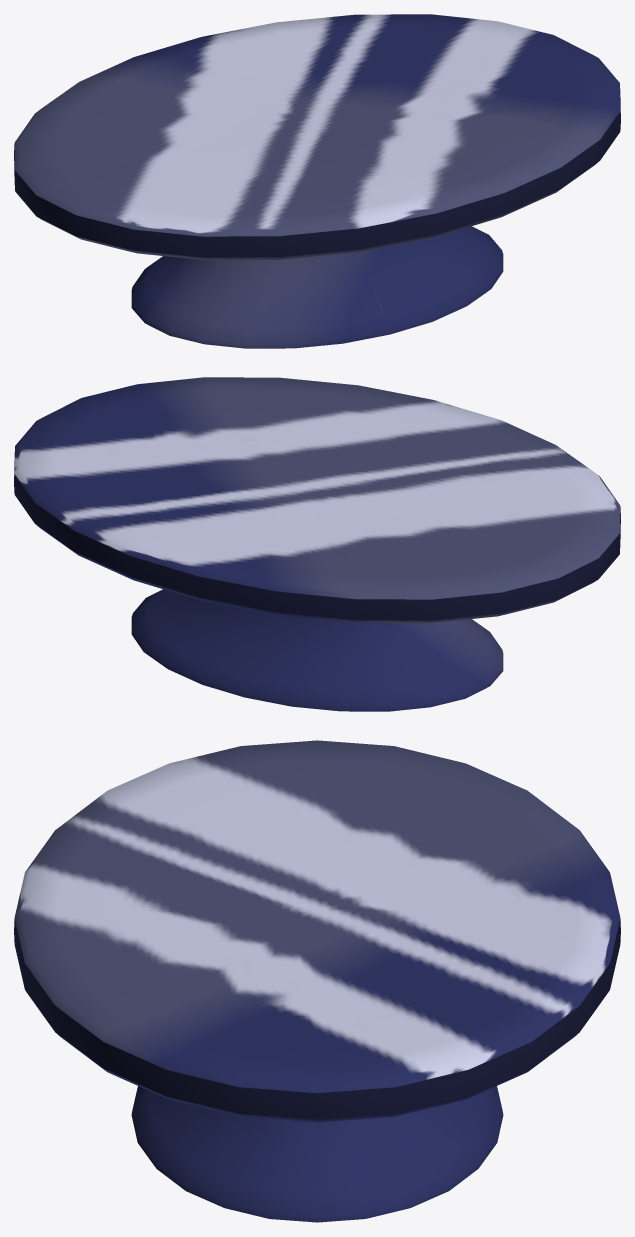
The model's file is SM_CoffeTable.fbx.
3 views of the same model, one above another, from view 1: azimuth 30°, elevation 25°; view 2: azimuth 150°, elevation 25°; view 3: azimuth 270°, elevation 25° (orthographic). The views are drawn at different scales.
Visible parts, largest first — view 1: SHELF.062; view 2: SHELF.062; view 3: SHELF.062.
Boxes of the visible parts, bbox=[...] form: SHELF.062: bbox=[14, 14, 620, 348]; SHELF.062: bbox=[14, 377, 620, 711]; SHELF.062: bbox=[14, 740, 620, 1222].
Bounding box in the file's own units: 115 × 32.11 × 84.34.
